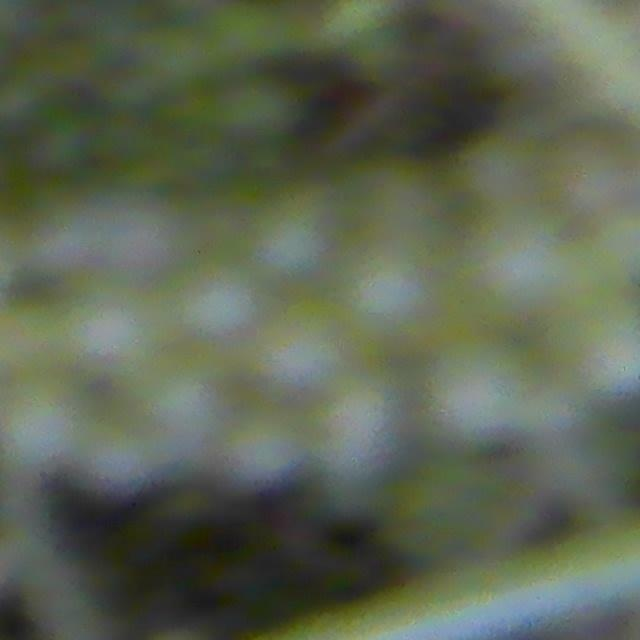SeaGrape: (321, 241, 437, 367), (461, 216, 577, 330), (531, 130, 640, 244), (425, 334, 532, 445), (58, 284, 165, 383), (547, 288, 640, 398), (242, 184, 340, 285), (0, 180, 94, 282), (253, 299, 349, 396), (158, 260, 258, 346), (0, 371, 84, 472), (215, 405, 303, 492), (455, 130, 552, 207), (74, 415, 151, 501)
